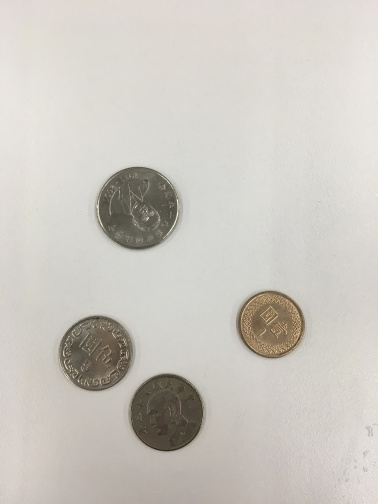1 dollar: (228, 279, 319, 372)
10 dollar: (82, 163, 196, 254)
5 dollar: (126, 369, 219, 458), (51, 309, 139, 396)
